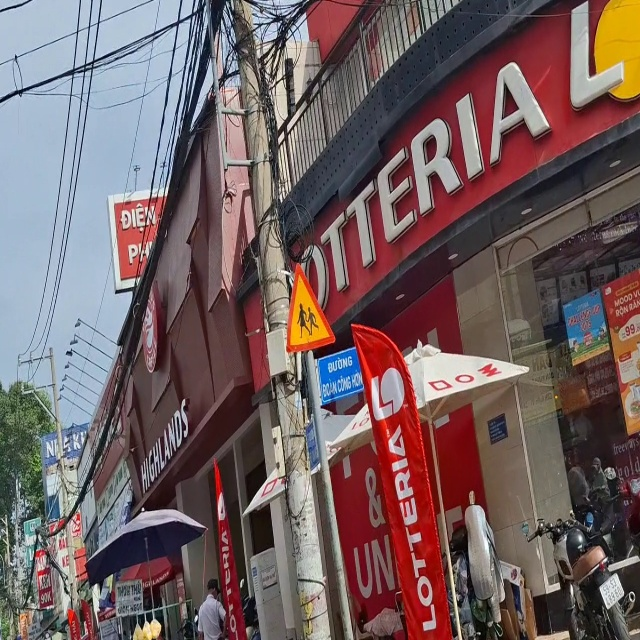cam oto: (269, 254, 341, 360)
